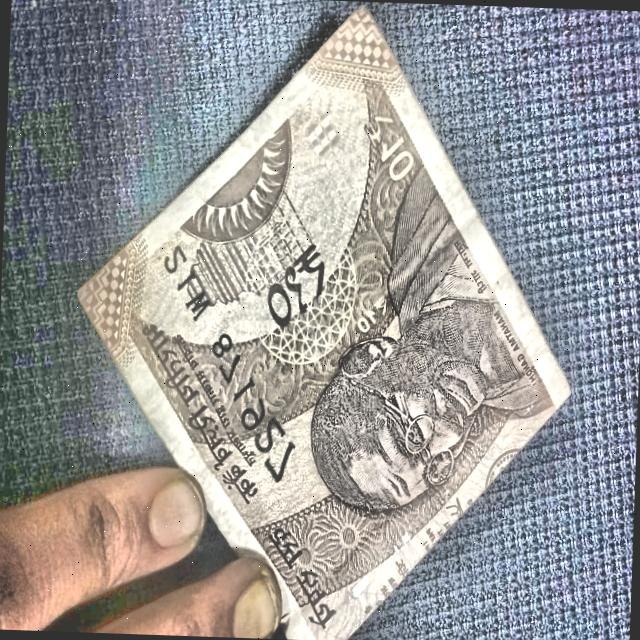-10-: (126, 0, 570, 608)
